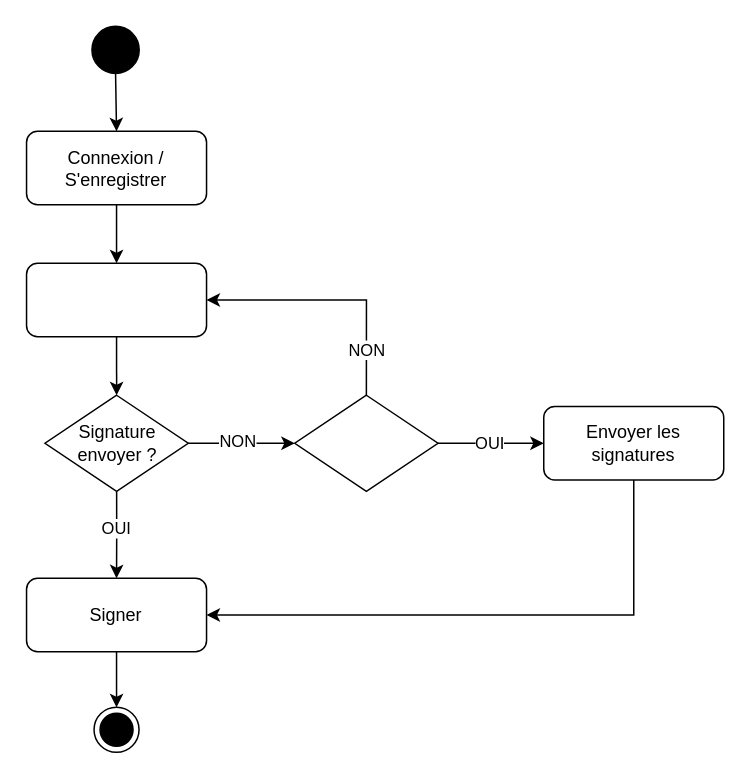
The diagram is 750 pixels wide and 779 high, and some of its shapes have lost their labels. Here are the shapes that lost their labels. From the top down, the box of each, then its label:
(25, 262, 207, 337): Voir le cours
(293, 394, 438, 491): Professeur ?
